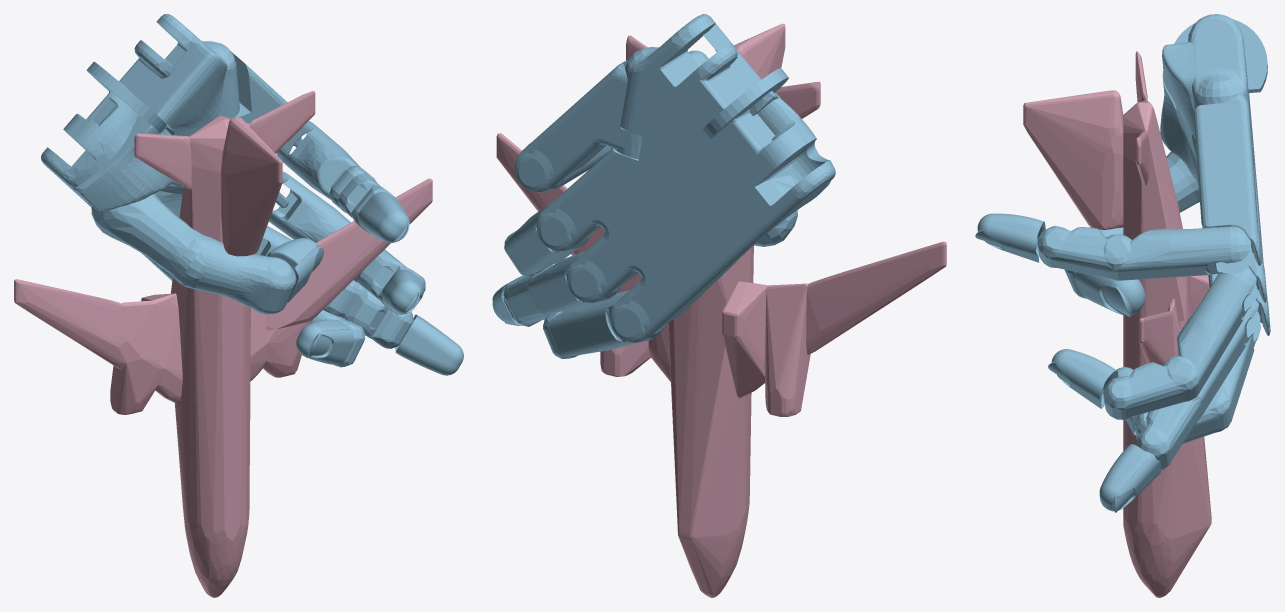
The picture shows the model from 3 angles, left to right: view 1: azimuth 30°, elevation 25°; view 2: azimuth 150°, elevation 25°; view 3: azimuth 270°, elevation 25°; orthographic projection. The views are drawn at different scales.
Visible parts, largest first — view 1: world, hand_isaac_q; view 2: hand_isaac_q, world; view 3: hand_isaac_q, world.
Part boxes in pixels (x1,y1,x2,y2): world: (14,91,432,597); hand_isaac_q: (41,14,463,375); hand_isaac_q: (492,14,835,358); world: (496,23,946,597); hand_isaac_q: (975,14,1270,512); world: (1023,51,1211,597).
Size of the model in its own units: 0.2021 by 0.2505 by 0.1166.
